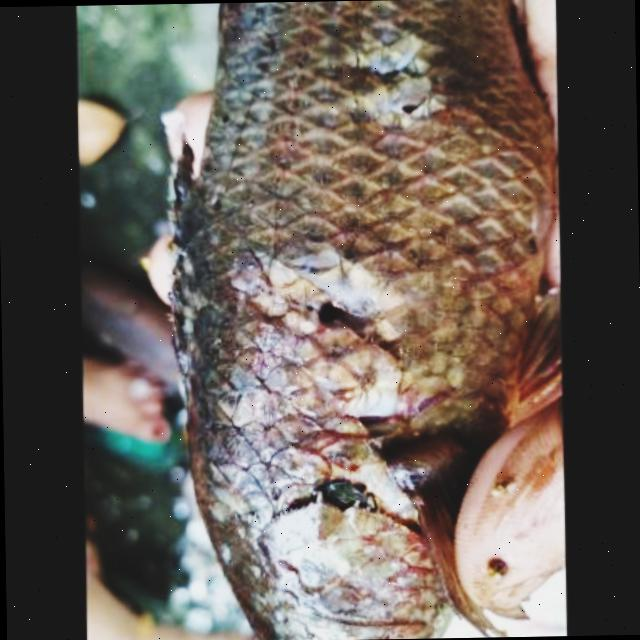Columnaris Disease: (162, 0, 569, 639)
